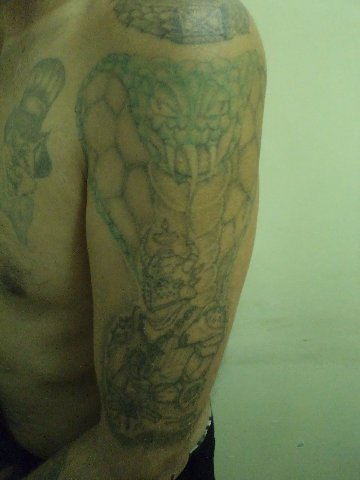tatu7_zmeya: (76, 34, 261, 378)
